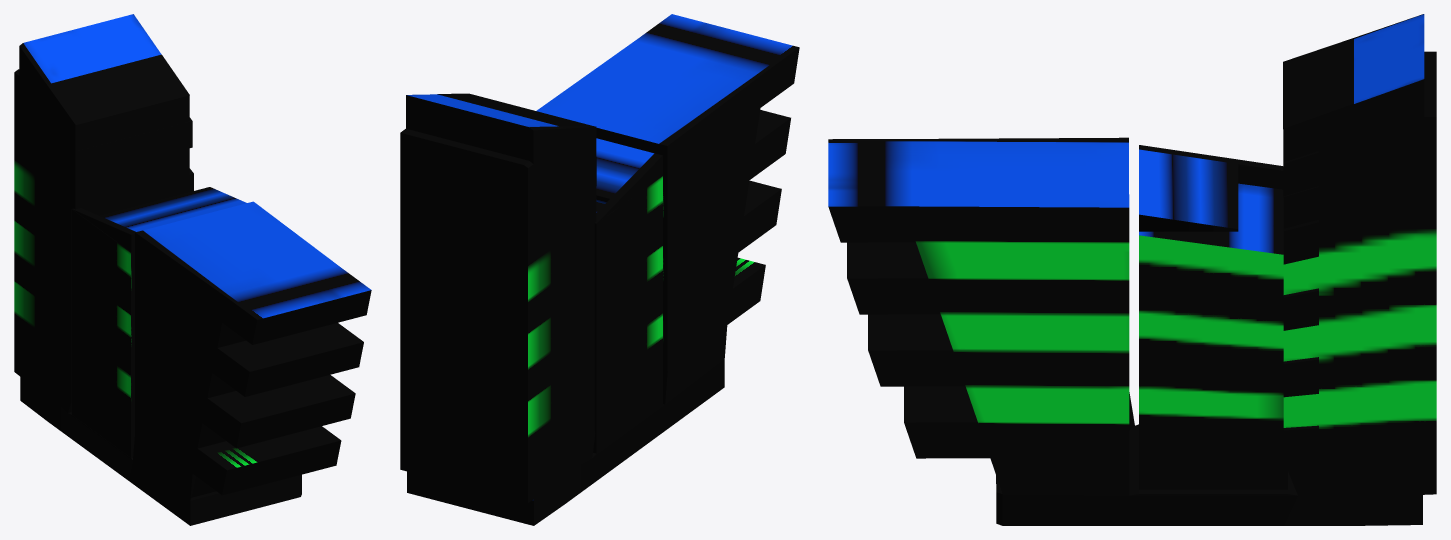
File: hospital 1 .fbx
3 renders of one model, left to right at view 1: azimuth 30°, elevation 25°; view 2: azimuth 150°, elevation 25°; view 3: azimuth 270°, elevation 25°, orthographic. The views are drawn at different scales.
Parts seen in each view (by area): view 1: Cube; view 2: Cube; view 3: Cube.
Boxes of the visible parts, left/top/right/bottom form: Cube: left=14, top=14, right=371, bottom=525; Cube: left=400, top=14, right=799, bottom=525; Cube: left=828, top=14, right=1436, bottom=525.
Bounding box in the file's own units: 4264 × 12117 × 14873.
